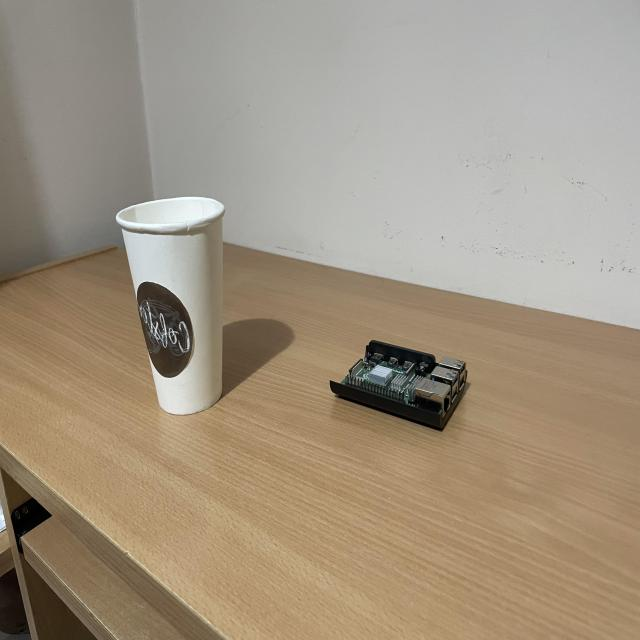big: (111, 188, 233, 420)
